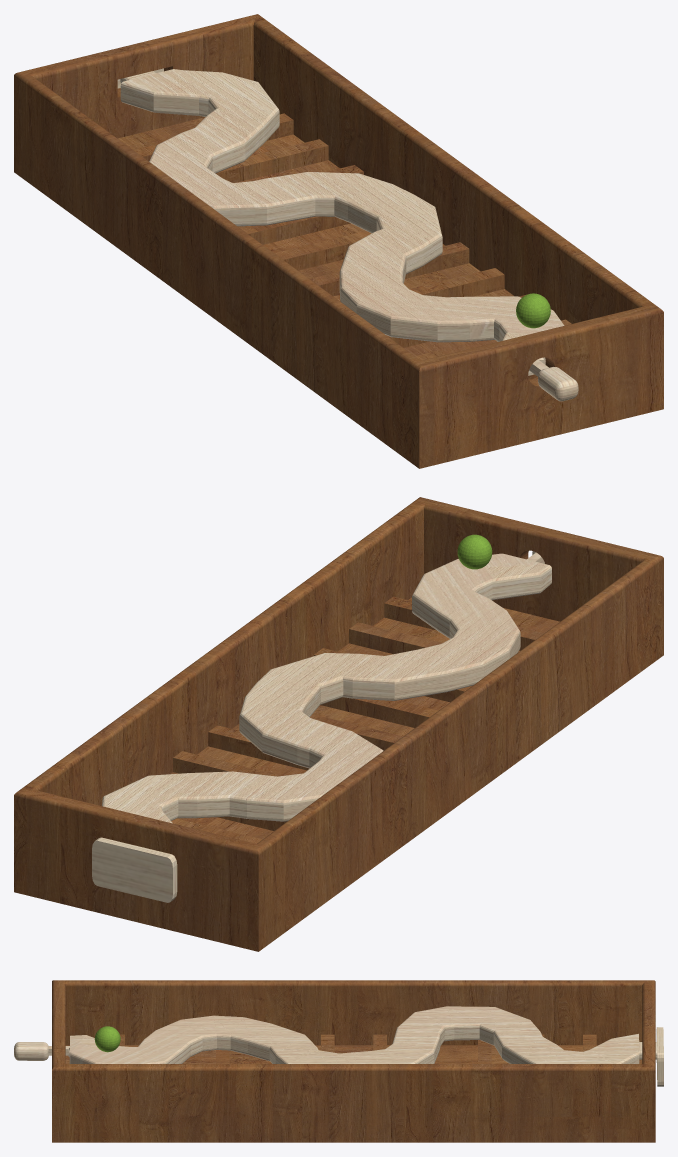
The model's file is ZigZagModel.fbx.
The picture shows the model from 3 angles, top to bottom: view 1: azimuth 30°, elevation 25°; view 2: azimuth 150°, elevation 25°; view 3: azimuth 270°, elevation 25°; orthographic projection. The views are drawn at different scales.
Visible parts, largest first — view 1: Plateau, Chemin, Sphere; view 2: Plateau, Chemin, Sphere; view 3: Plateau, Chemin, Sphere.
Boxes of the visible parts, bbox=[...] form: Plateau: bbox=[14, 14, 663, 468]; Chemin: bbox=[117, 68, 578, 401]; Sphere: bbox=[516, 293, 550, 328]; Plateau: bbox=[14, 497, 663, 951]; Chemin: bbox=[92, 551, 551, 902]; Sphere: bbox=[457, 534, 492, 569]; Plateau: bbox=[52, 980, 655, 1142]; Chemin: bbox=[14, 1006, 663, 1086]; Sphere: bbox=[94, 1026, 120, 1052].
Bounding box in the file's own units: 160 × 68.44 × 495.
